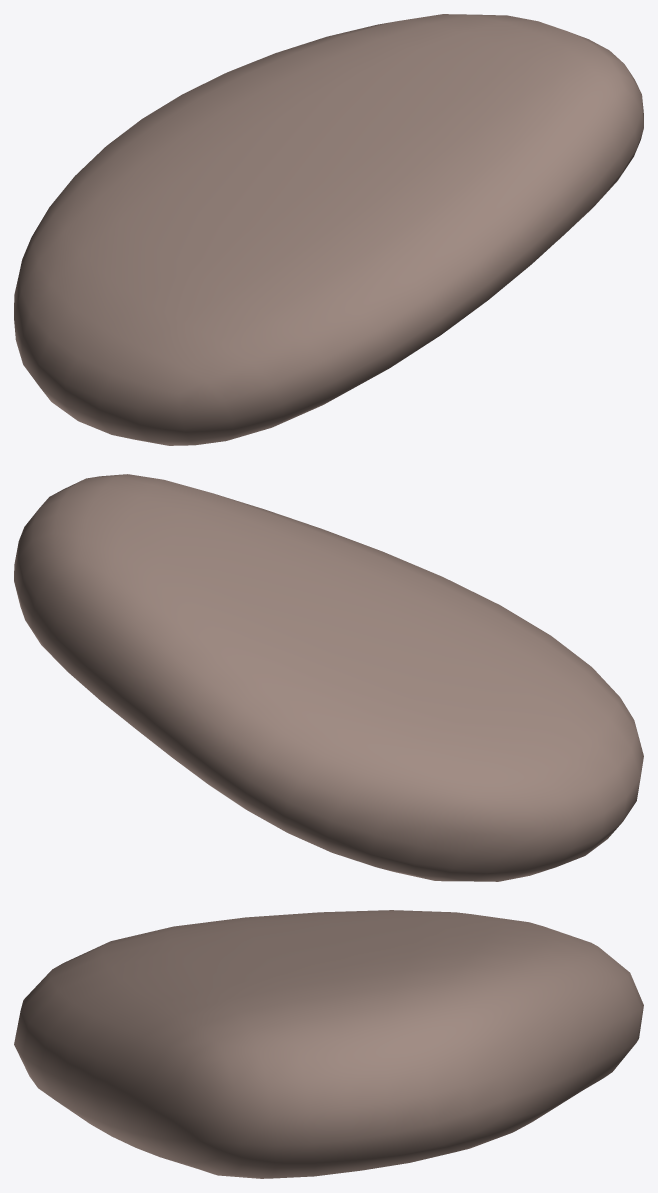
Rendered from Piedra2D.fbx.
3 views of the same model, one above another, from view 1: azimuth 30°, elevation 25°; view 2: azimuth 150°, elevation 25°; view 3: azimuth 270°, elevation 25° (orthographic). The views are drawn at different scales.
Visible parts, largest first — view 1: Circle.012; view 2: Circle.012; view 3: Circle.012.
Boxes of the visible parts, x1,y1,x2,y2 form: Circle.012: (14,14,643,445); Circle.012: (14,474,643,881); Circle.012: (14,910,643,1178).
Size of the model in its own units: 492 by 208 by 364.
